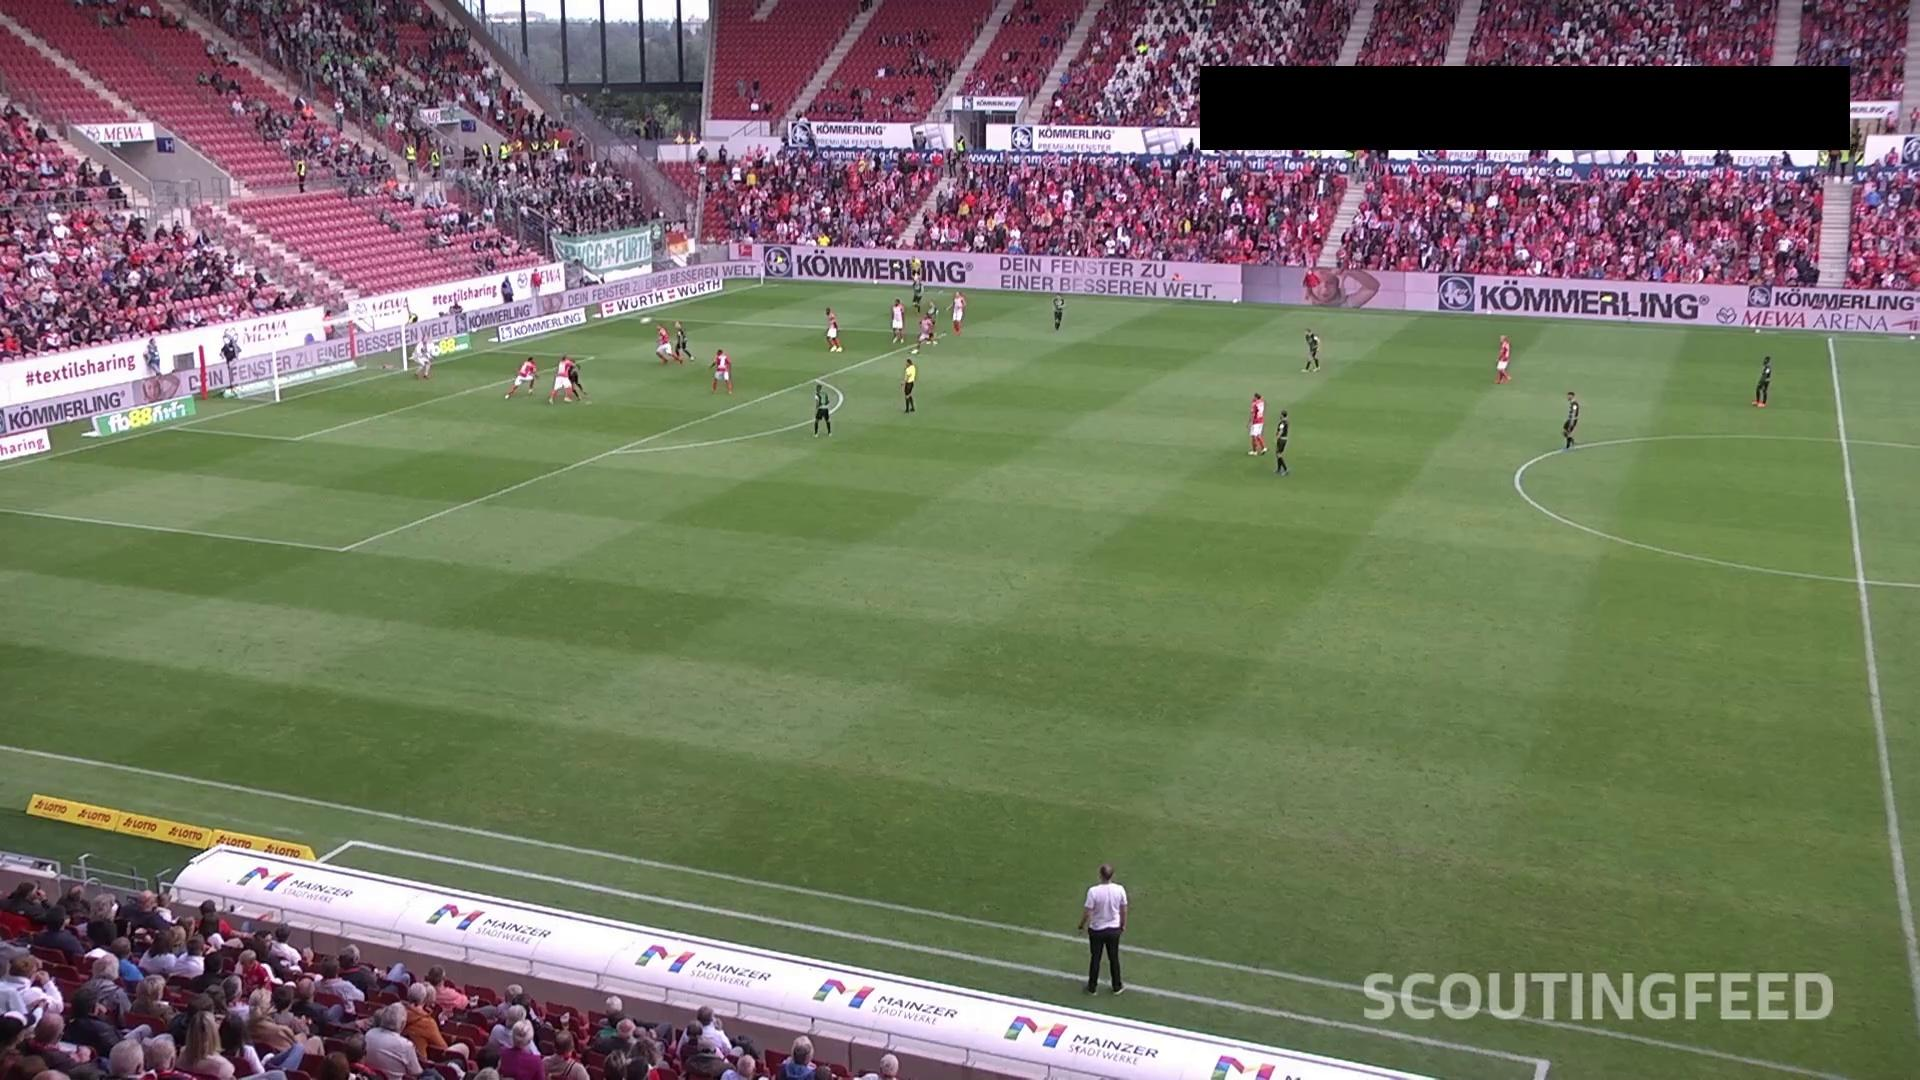Location-of-ball: (629, 305, 666, 328)
